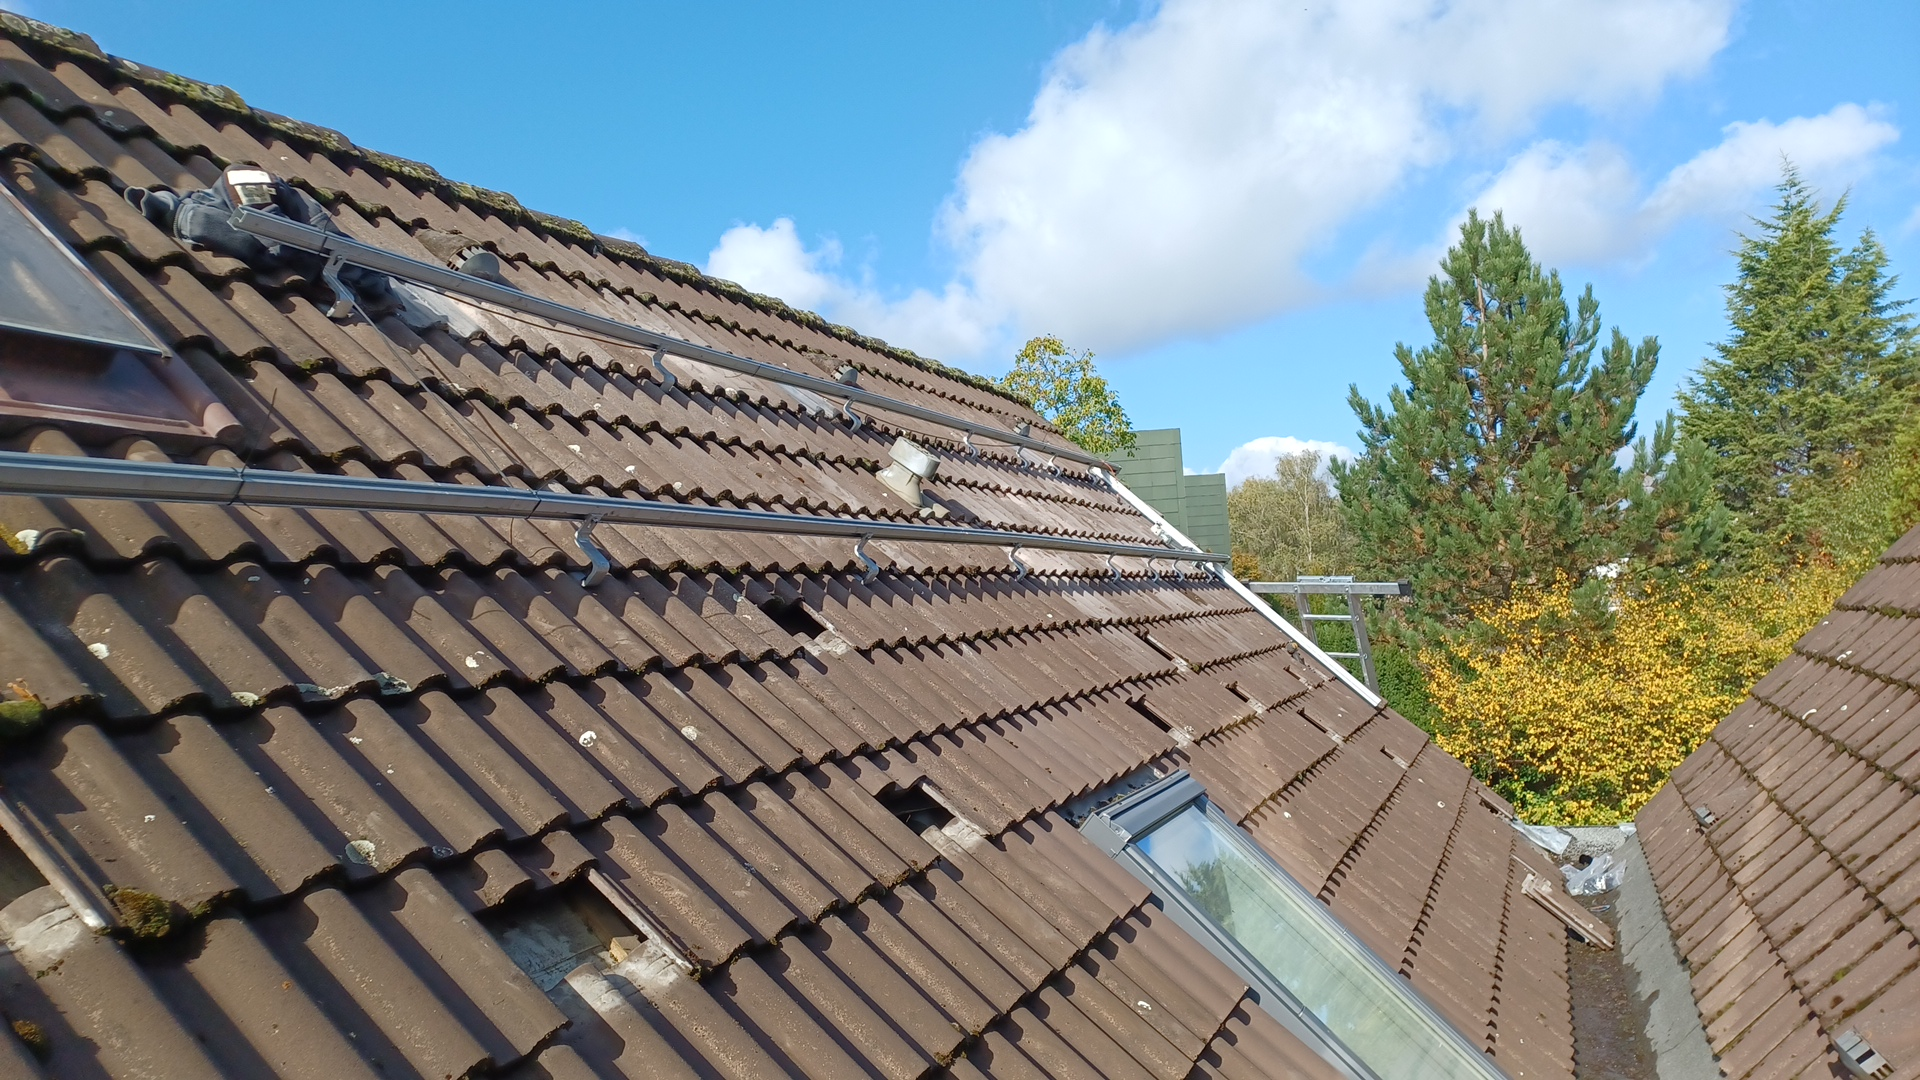hook: (568, 513, 611, 588), (315, 249, 355, 318), (855, 531, 880, 585), (651, 343, 675, 392), (1009, 542, 1027, 583), (843, 396, 861, 431), (963, 429, 978, 458), (1106, 551, 1121, 582), (1147, 554, 1160, 582), (1015, 443, 1029, 469), (1048, 454, 1062, 477), (1201, 560, 1213, 584), (1174, 556, 1184, 582), (1087, 462, 1097, 485)
